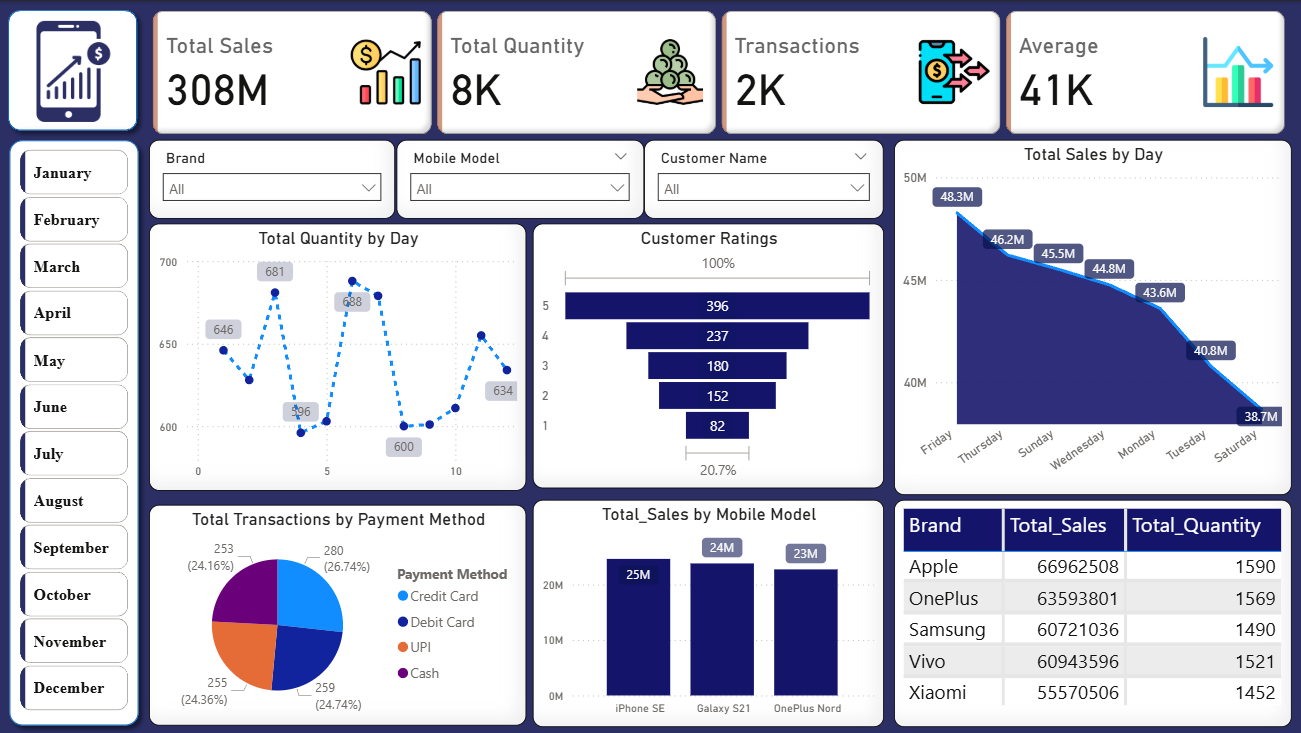

What the dashboard file says about the page in this screenshot:
{"tool":"powerbi","page":{"name":"Mobile Sales Analysis","canvas":[1280,720],"ordinal":0},"visuals":[{"type":"group","id":"g1","title":"Group 1","box":[0,0,144.8,136.2],"z":0,"group":"g3"},{"type":"shape","box":[0,0,144.8,136.2],"z":0,"group":"g1"},{"type":"shape","box":[1.2,127.6,144.8,592.6],"z":0,"group":"g2"},{"type":"image","box":[9.7,14.6,126.9,109.2],"z":1000,"group":"g1"},{"type":"group","id":"g2","title":"Group 2","box":[1.2,127.6,144.8,592.6],"z":1000,"group":"g3"},{"type":"cardVisual","fields":{"Data":["Sales_Data.Total_Sales","Sales_Data.Total_Quantity","Sales_Data.Total_Transactions","Sales_Data.Average"]},"box":[146,4.9,1122.7,131.3],"z":2000,"group":"g3"},{"type":"advancedSlicerVisual","fields":{"Values":["Sales_Data.Date.Variation.Date Hierarchy.Month"]},"box":[15.9,141.1,116.6,565.6],"z":2001,"group":"g2"},{"type":"lineChart","fields":{"Y":["Sales_Data.Total_Quantity"],"Category":["Sales_Data.Date.Variation.Date Hierarchy.Month","Sales_Data.Date.Variation.Date Hierarchy.Day"]},"box":[147.2,218.4,370.6,262.6],"z":3000,"group":"g3"},{"type":"columnChart","fields":{"Y":["Sales_Data.Total_Sales"],"Category":["Sales_Data.Mobile Model"]},"box":[523.9,489.6,344.8,223.3],"z":4000,"group":"g3"},{"type":"pieChart","title":"Total Transactions by Payment Method","fields":{"Category":["Sales_Data.Payment Method"],"Y":["Sales_Data.Total_Transactions"]},"box":[147.2,494.5,370.6,217.2],"z":5000,"group":"g3"},{"type":"funnel","title":"Customer Ratings","fields":{"Category":["Sales_Data.Customer Ratings"],"Y":["CountNonNull(Sales_Data.Customer Ratings)"]},"box":[523.9,218.4,344.8,260.1],"z":6000,"group":"g3"},{"type":"areaChart","title":"Total Sales by Day","fields":{"Category":["Sales_Data.Day"],"Y":["Sales_Data.Total_Sales"]},"box":[878.5,136.2,390.2,348.5],"z":7000,"group":"g3"},{"type":"tableEx","fields":{"Values":["Sales_Data.Brand","Sales_Data.Total_Sales","Sales_Data.Total_Quantity"]},"box":[878.5,489.6,390.2,223.3],"z":8000,"group":"g3"},{"type":"slicer","fields":{"Values":["Sales_Data.Brand"]},"box":[147.2,136.2,241.7,77.3],"z":9000,"group":"g3"},{"type":"slicer","fields":{"Values":["Sales_Data.Mobile Model"]},"box":[390.2,136.2,242.9,77.3],"z":10000,"group":"g3"},{"type":"slicer","fields":{"Values":["Sales_Data.Customer Name"]},"box":[633.1,136.2,235.6,77.3],"z":11000,"group":"g3"},{"type":"group","id":"g3","title":"Group 3","box":[0,0,1268.7,720.2],"z":11001}]}

Visuals, with their boxes in screenshot pixels (x1, y1, x2, y2), scaled from the page's 1280x720 canvas onto the 1301x733 screenshot:
"Group 1" group: box(0, 0, 147, 139)
shape: box(0, 0, 147, 139)
shape: box(1, 130, 148, 732)
image: box(10, 15, 139, 126)
"Group 2" group: box(1, 130, 148, 732)
cardVisual - Sales_Data.Total_Sales x Sales_Data.Total_Quantity: box(148, 5, 1290, 139)
advancedSlicerVisual - Sales_Data.Date.Variation.Date Hierarchy.Month: box(16, 144, 135, 719)
lineChart - Sales_Data.Total_Quantity x Sales_Data.Date.Variation.Date Hierarchy.Month: box(150, 222, 526, 490)
columnChart - Sales_Data.Total_Sales x Sales_Data.Mobile Model: box(532, 498, 883, 726)
"Total Transactions by Payment Method" pieChart: box(150, 503, 526, 725)
"Customer Ratings" funnel: box(532, 222, 883, 487)
"Total Sales by Day" areaChart: box(893, 139, 1290, 493)
tableEx - Sales_Data.Brand x Sales_Data.Total_Sales: box(893, 498, 1290, 726)
slicer - Sales_Data.Brand: box(150, 139, 395, 217)
slicer - Sales_Data.Mobile Model: box(397, 139, 643, 217)
slicer - Sales_Data.Customer Name: box(643, 139, 883, 217)
"Group 3" group: box(0, 0, 1290, 732)
